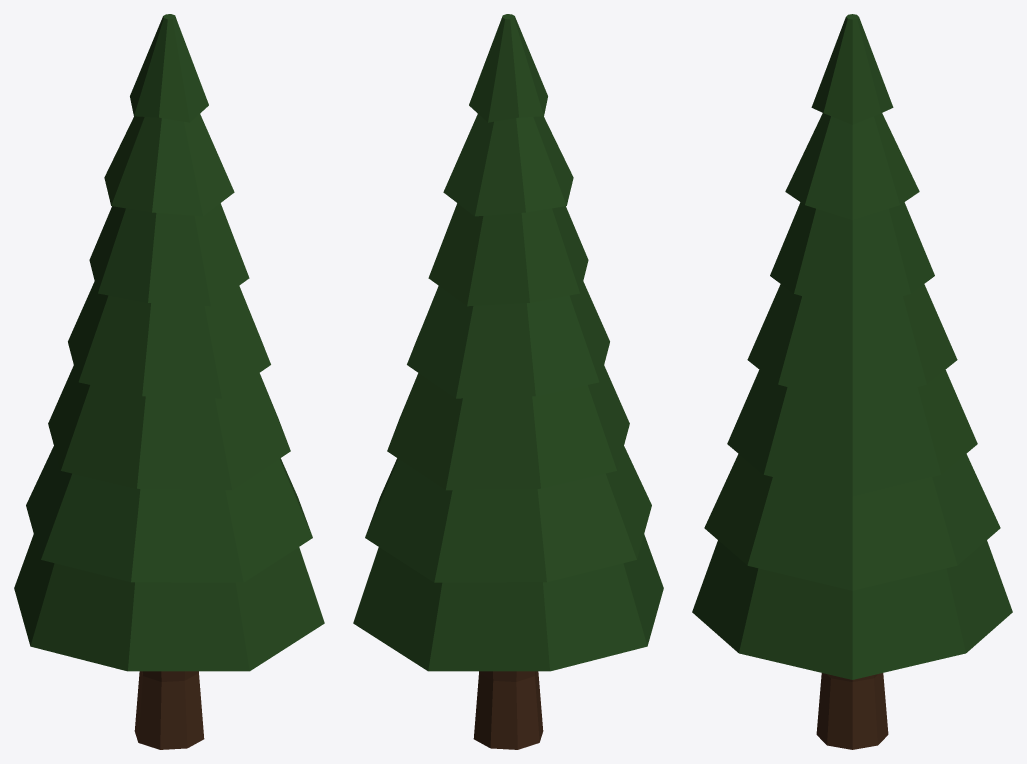
Rendered from TREE.fbx.
3 renders of one model, left to right at view 1: azimuth 30°, elevation 25°; view 2: azimuth 150°, elevation 25°; view 3: azimuth 270°, elevation 25°, orthographic.
Parts seen in each view (by area): view 1: Pine.002, Pine.000; view 2: Pine.002, Pine.000; view 3: Pine.002, Pine.000.
Part boxes in pixels (<box>): Pine.002: <box>14,14,324,671</box>; Pine.000: <box>134,671,204,749</box>; Pine.002: <box>353,14,663,671</box>; Pine.000: <box>473,671,543,749</box>; Pine.002: <box>692,14,1012,679</box>; Pine.000: <box>816,673,888,749</box>.
Bounding box in the file's own units: 262 × 648 × 262.
